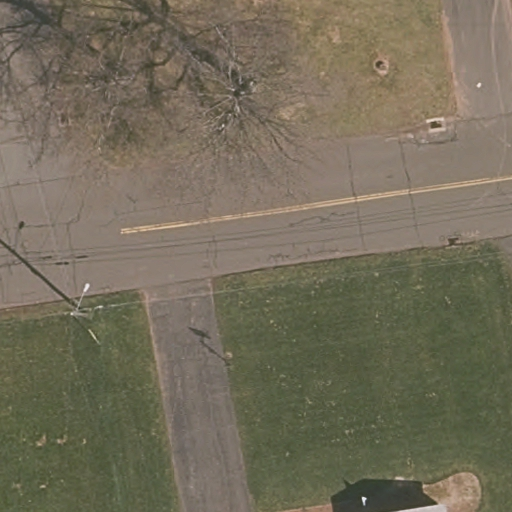DT: (65, 281, 97, 321)
